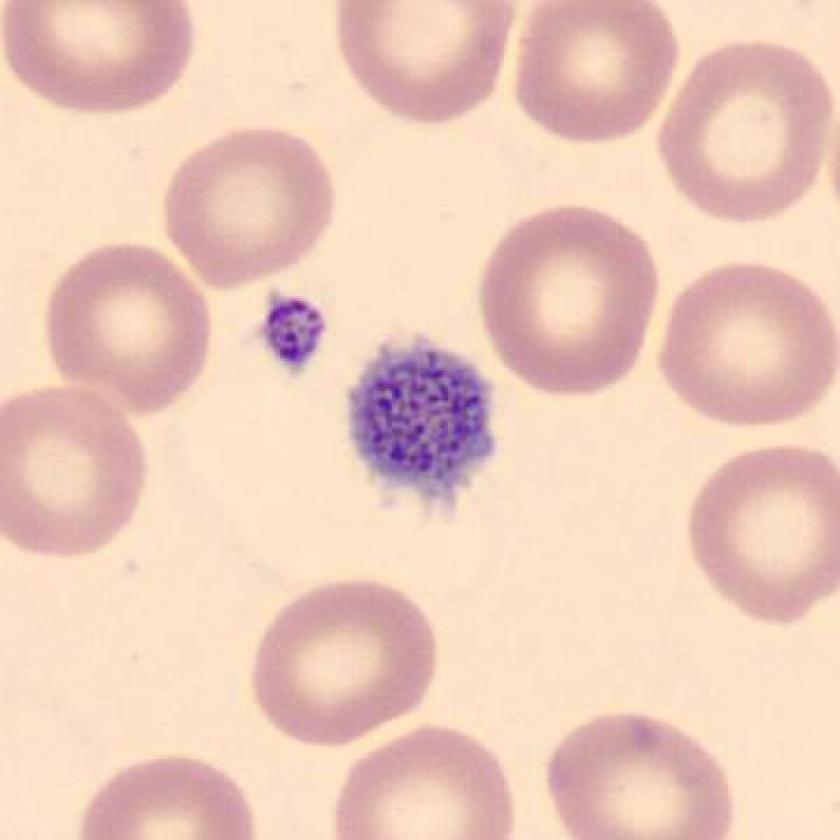platelets: (332, 327, 510, 522), (248, 269, 335, 383)
